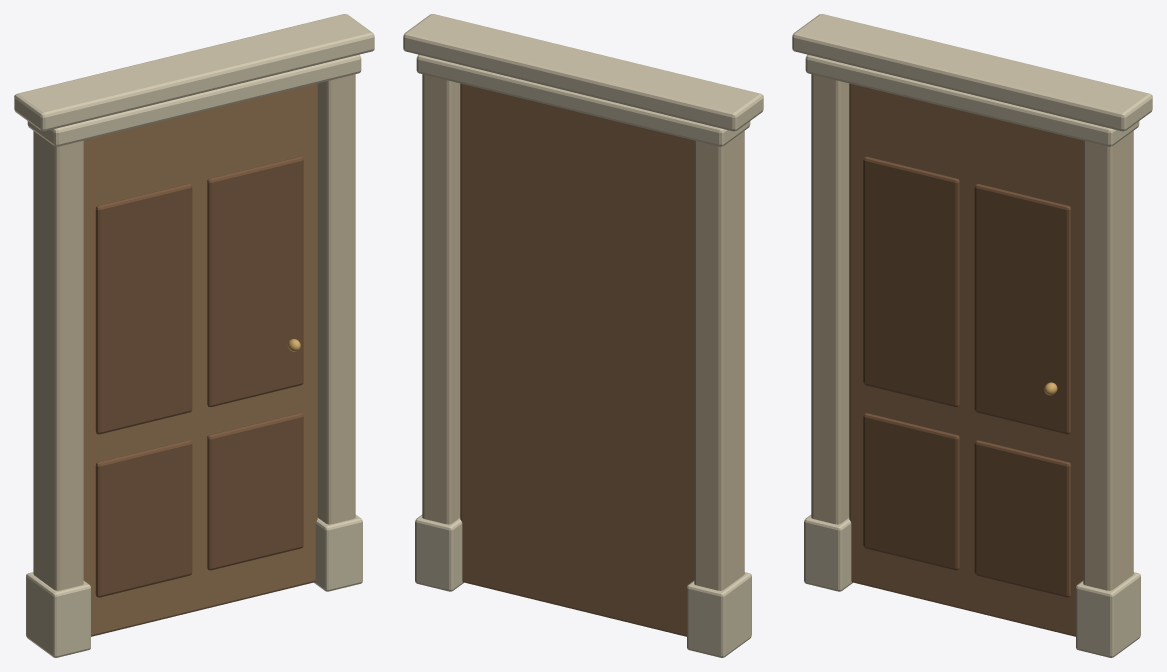
File: austen-doorway.glb
3 renders of one model, left to right at view 1: azimuth 30°, elevation 25°; view 2: azimuth 150°, elevation 25°; view 3: azimuth 330°, elevation 25°, orthographic.
Visible parts, largest first — view 1: austen-doorway__DoorLeaf, austen-doorway__Visual_matte; view 2: austen-doorway__DoorLeaf, austen-doorway__Visual_matte; view 3: austen-doorway__DoorLeaf, austen-doorway__Visual_matte.
Part boxes in pixels (x1=…): austen-doorway__DoorLeaf: x1=83, y1=83, x2=317, y2=636; austen-doorway__Visual_matte: x1=14, y1=14, x2=374, y2=657; austen-doorway__DoorLeaf: x1=460, y1=83, x2=694, y2=636; austen-doorway__Visual_matte: x1=403, y1=14, x2=763, y2=657; austen-doorway__DoorLeaf: x1=849, y1=83, x2=1083, y2=636; austen-doorway__Visual_matte: x1=792, y1=14, x2=1152, y2=657.
Bounding box in the file's own units: 1.5 × 2.35 × 0.23.
